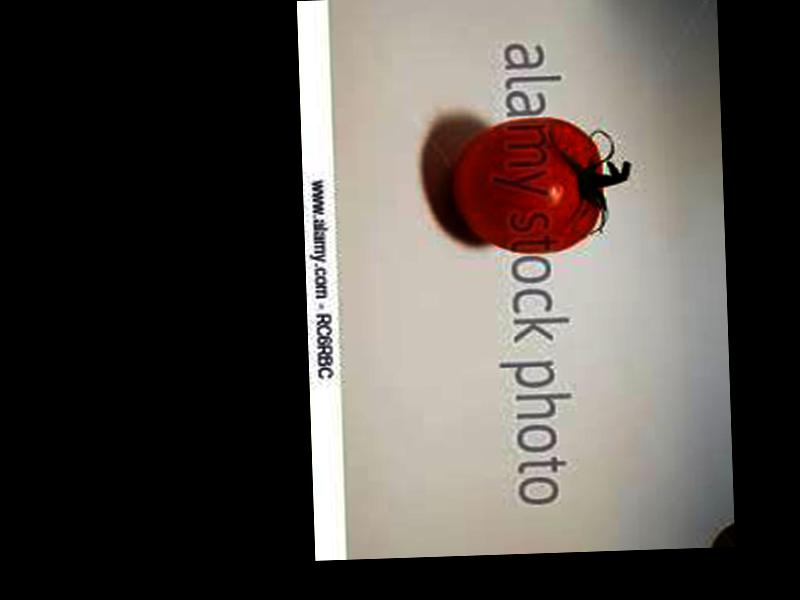Tomato: (451, 115, 607, 256)
